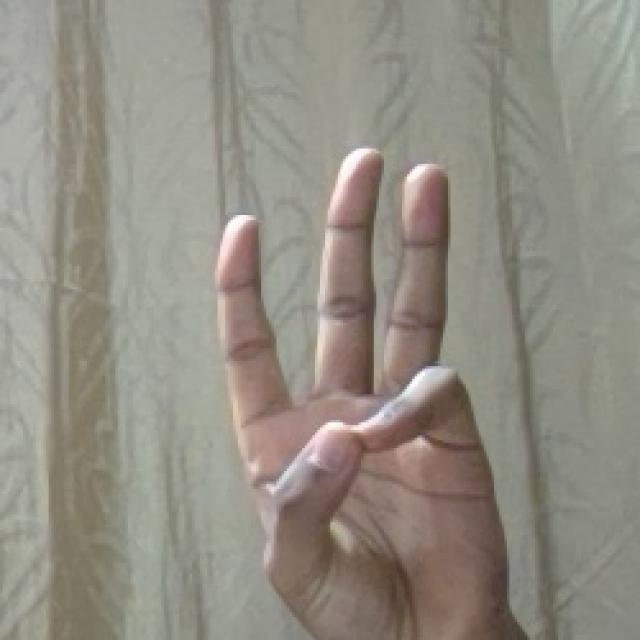Numeric-6: (208, 142, 509, 617)
